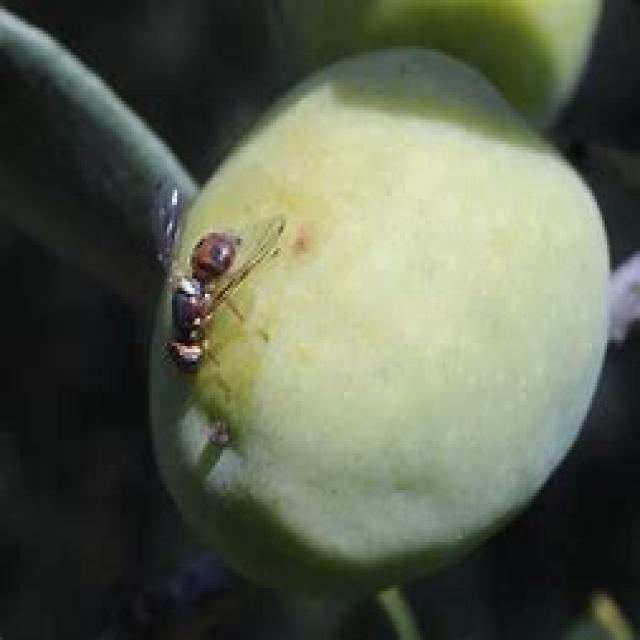Olive Fruit Fly: (152, 77, 605, 597)
